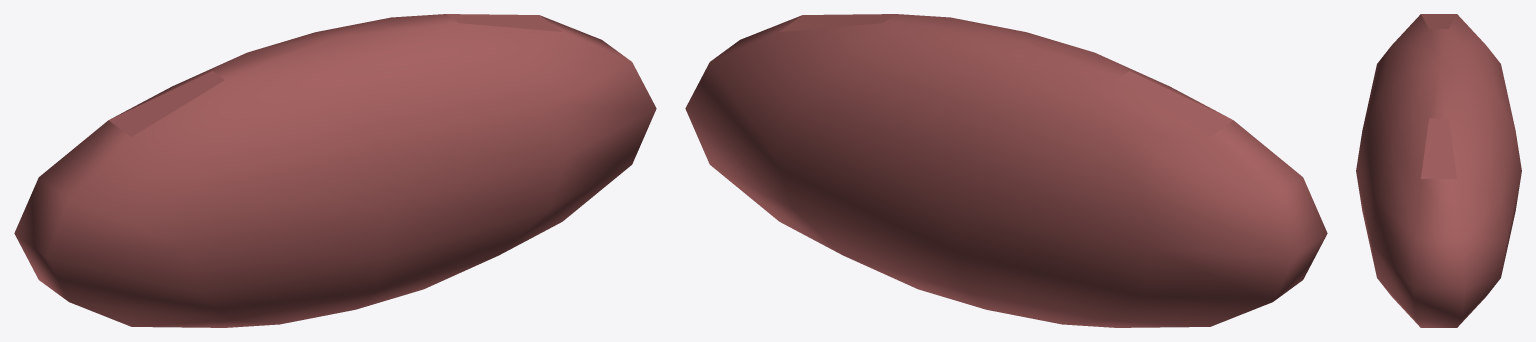
Rendered from Face_Calm.fbx.
3 renders of one model, left to right at view 1: azimuth 30°, elevation 25°; view 2: azimuth 150°, elevation 25°; view 3: azimuth 270°, elevation 25°, orthographic. The views are drawn at different scales.
Parts seen in each view (by area): view 1: Mouth; view 2: Mouth; view 3: Mouth.
Part boxes in pixels (<box>): Mouth: <box>14,14,656,327</box>; Mouth: <box>685,14,1327,327</box>; Mouth: <box>1356,14,1521,327</box>.
Bounding box in the file's own units: 6.66 × 2.8 × 2.
